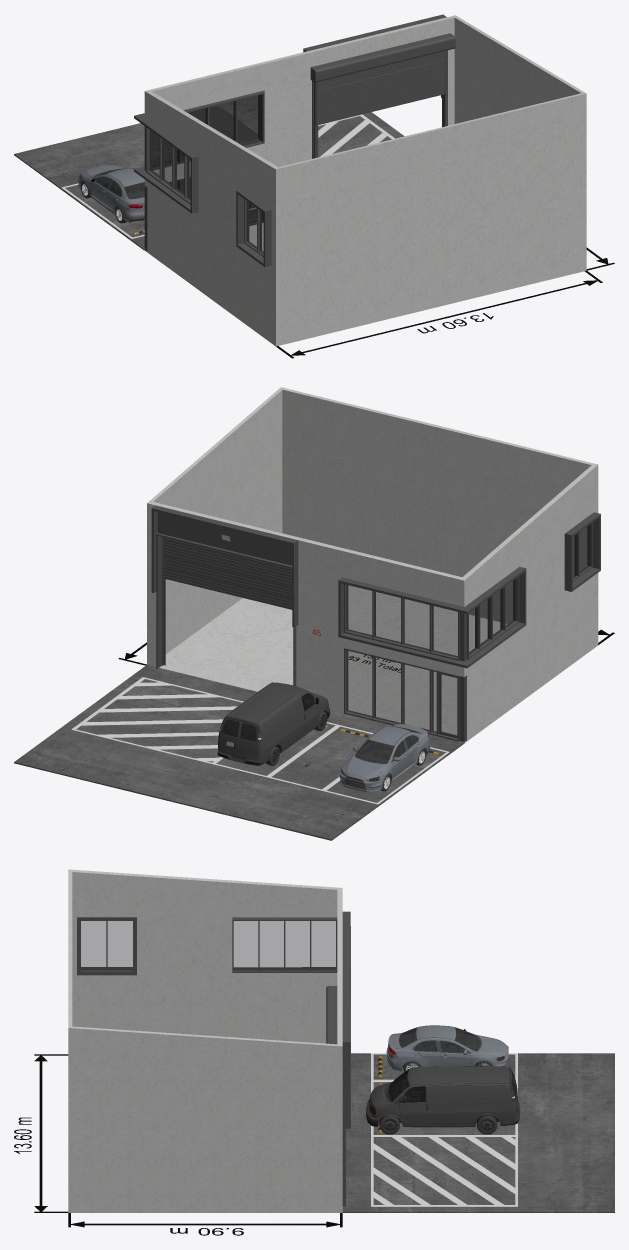
The model's file is Without_Mezzanine.glb.
3 views of the same model, one above another, from view 1: azimuth 30°, elevation 25°; view 2: azimuth 150°, elevation 25°; view 3: azimuth 270°, elevation 25° (orthographic). The views are drawn at different scales.
Parts seen in each view (by area): view 1: Object1746169868.002, Shape113.002, Box2131647078.003, Object1746169869.002, Box2131637733.002, Segment 004.002, Rectangle2140.003, AM132_031_Collapsed.002, Object1746169150.002, Rectangle2141.002, Rectangle2139.002, AM132_020_06.002 (+3 smaller); view 2: Object1746169868.002, Box2131647078.003, Shape113.002, Box2131637733.002, Shape114.002, Object1746169869.002, AM132_020_06.002, Segment 004.002, Rectangle2140.003, AM132_031_Collapsed.002, Layer:023.003, Component#120 [25525]110.002 (+4 smaller); view 3: Object1746169869.002, Box2131647078.003, Shape113.002, AM132_020_06.002, Rectangle2140.003, Box2131637733.002, AM132_031_Collapsed.002, Layer:023.003, Rectangle2141.002, Object1746169868.002, Component#121 [25528]110.002, Rectangle2139.002 (+3 smaller).
Boxes of the visible parts, box(x1,y1,x2,y2) form: Object1746169868.002: box(279, 92, 586, 345); Shape113.002: box(144, 15, 457, 346); Box2131647078.003: box(14, 95, 404, 250); Object1746169869.002: box(454, 17, 584, 123); Box2131637733.002: box(134, 91, 264, 225); Segment 004.002: box(315, 51, 444, 125); Rectangle2140.003: box(144, 143, 264, 287); AM132_031_Collapsed.002: box(78, 165, 144, 223); Object1746169150.002: box(310, 33, 455, 82); Rectangle2141.002: box(236, 189, 271, 266); Rectangle2139.002: box(144, 82, 264, 154); AM132_020_06.002: box(181, 107, 257, 155); Object1746169868.002: box(279, 387, 593, 623); Box2131647078.003: box(14, 665, 464, 840); Shape113.002: box(147, 463, 598, 712); Box2131637733.002: box(338, 566, 526, 741); Shape114.002: box(159, 585, 518, 742); Object1746169869.002: box(150, 389, 282, 651); AM132_020_06.002: box(217, 682, 329, 765); Segment 004.002: box(163, 537, 292, 609); Rectangle2140.003: box(344, 631, 518, 739); AM132_031_Collapsed.002: box(339, 724, 430, 792); Layer:023.003: box(71, 677, 243, 764); Component#120 [25525]110.002: box(157, 512, 292, 565); Object1746169869.002: box(72, 1026, 337, 1212); Box2131647078.003: box(342, 1053, 614, 1212); Shape113.002: box(68, 869, 342, 1212); AM132_020_06.002: box(365, 1066, 519, 1134); Rectangle2140.003: box(232, 973, 337, 1043); Box2131637733.002: box(232, 911, 350, 972); AM132_031_Collapsed.002: box(386, 1025, 508, 1071); Layer:023.003: box(371, 1135, 517, 1206); Rectangle2141.002: box(77, 917, 136, 975); Object1746169868.002: box(68, 871, 72, 1212); Component#121 [25528]110.002: box(342, 970, 350, 1128); Rectangle2139.002: box(232, 908, 337, 917).
Bounding box in the file's own units: 16.03 × 7.5 × 22.07.
Materials: 59 (11 with a texture image).
